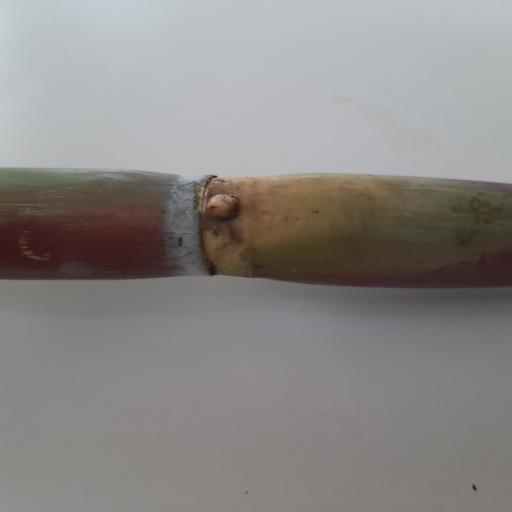Bud: (203, 191, 240, 222)
